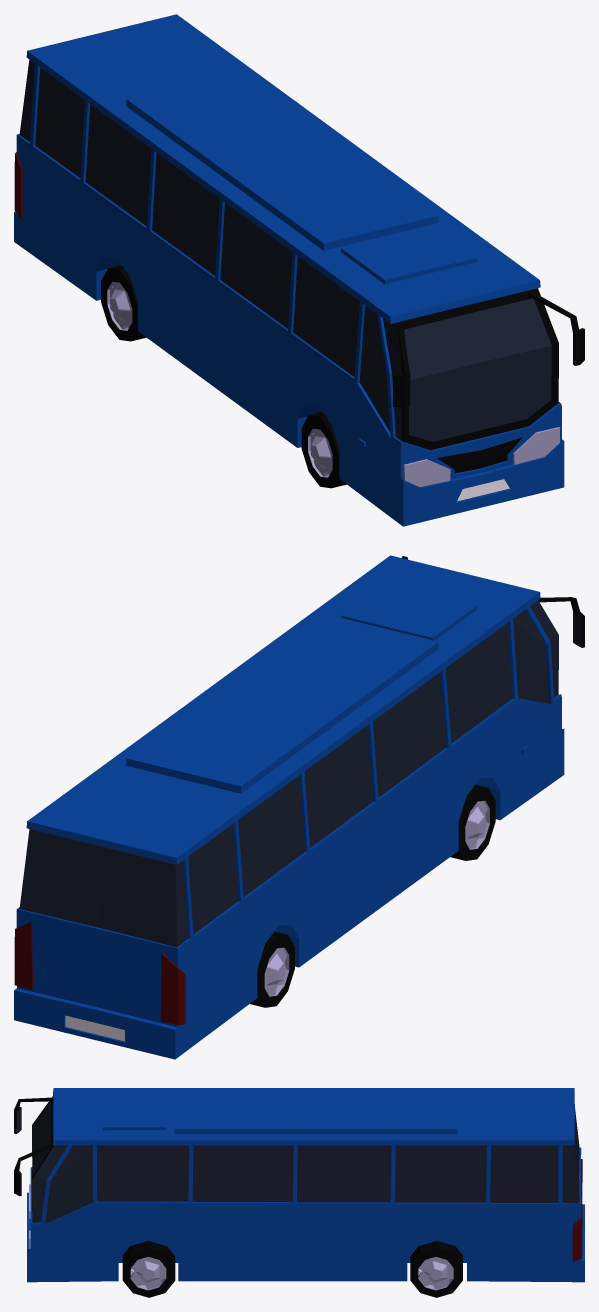
The model's file is bus.glb.
The picture shows the model from 3 angles, top to bottom: view 1: azimuth 30°, elevation 25°; view 2: azimuth 150°, elevation 25°; view 3: azimuth 270°, elevation 25°; orthographic projection. The views are drawn at different scales.
Visible parts, largest first — view 1: Bus, Bus_wheel_front_right, Bus_wheel_rear_right; view 2: Bus, Bus_wheel_rear_right, Bus_wheel_front_right; view 3: Bus, Bus_wheel_front_left, Bus_wheel_rear_left.
Boxes of the visible parts, x1,y1,x2,y2 form: Bus: (14,14,584,526); Bus_wheel_front_right: (301,412,346,488); Bus_wheel_rear_right: (101,265,145,341); Bus: (14,555,584,1059); Bus_wheel_rear_right: (250,931,294,1007); Bus_wheel_front_right: (450,784,495,860); Bus: (14,1088,584,1282); Bus_wheel_front_left: (122,1240,175,1297); Bus_wheel_rear_left: (410,1241,462,1297).
Bounding box in the file's own units: 381 × 427 × 1370.
